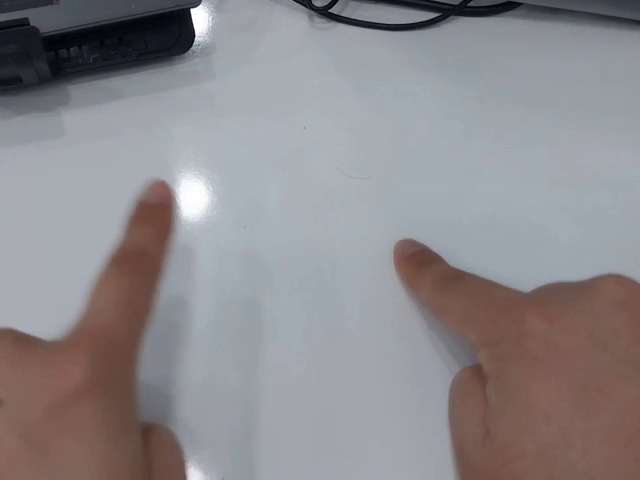fingers: (129, 178, 175, 227), (392, 237, 442, 281)
